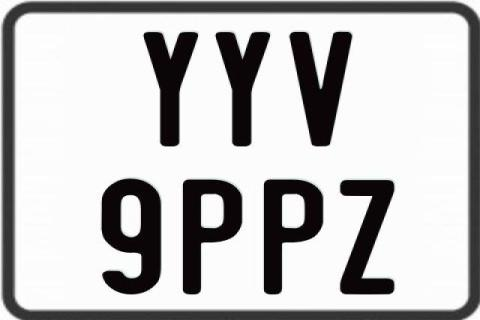0: (101, 177, 165, 295)
P: (180, 177, 244, 297), (264, 179, 327, 299)
V: (288, 31, 355, 147)
Y: (213, 31, 271, 148), (144, 31, 198, 151)
Z: (337, 180, 393, 297)
